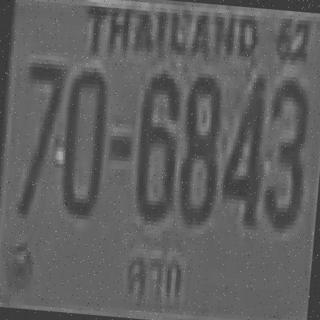N00: (56, 66, 108, 216)
N03: (261, 77, 310, 228)
N04: (218, 70, 268, 224)
N06: (132, 68, 182, 218)
N07: (14, 58, 64, 216)
N08: (174, 70, 224, 224)
P69: (123, 248, 185, 307)
